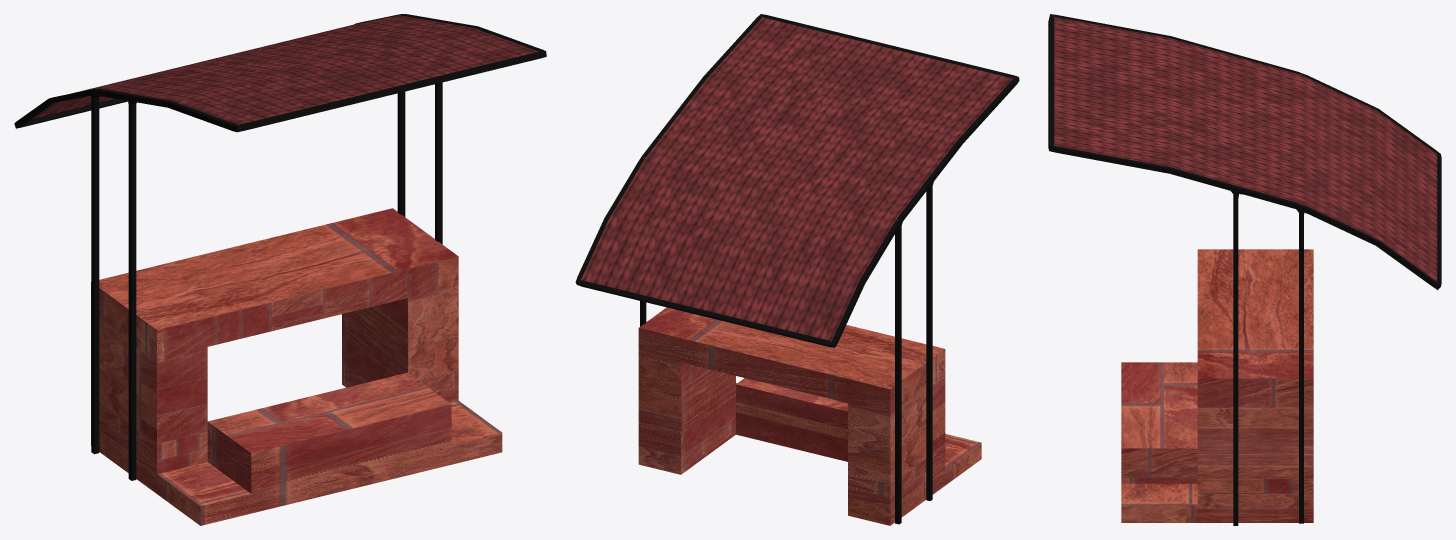
Rendered from Bolero.fbx.
3 views of the same model, side by side, from view 1: azimuth 30°, elevation 25°; view 2: azimuth 150°, elevation 25°; view 3: azimuth 270°, elevation 25° (orthographic). The views are drawn at different scales.
Parts seen in each view (by area): view 1: Cube, Plane.001, Plane; view 2: Plane.001, Cube, Plane; view 3: Plane.001, Cube, Plane.
Boxes of the visible parts, left/top/right/bottom form: Cube: left=91, top=208, right=502, bottom=525; Plane.001: left=33, top=14, right=538, bottom=125; Plane: left=14, top=14, right=546, bottom=480; Plane.001: left=580, top=17, right=1013, bottom=341; Cube: left=638, top=307, right=981, bottom=525; Plane: left=575, top=14, right=1019, bottom=524; Plane.001: left=1054, top=16, right=1437, bottom=281; Cube: left=1121, top=249, right=1313, bottom=522; Plane: left=1048, top=14, right=1441, bottom=525.
Size of the model in its own units: 436 by 577 by 542.
